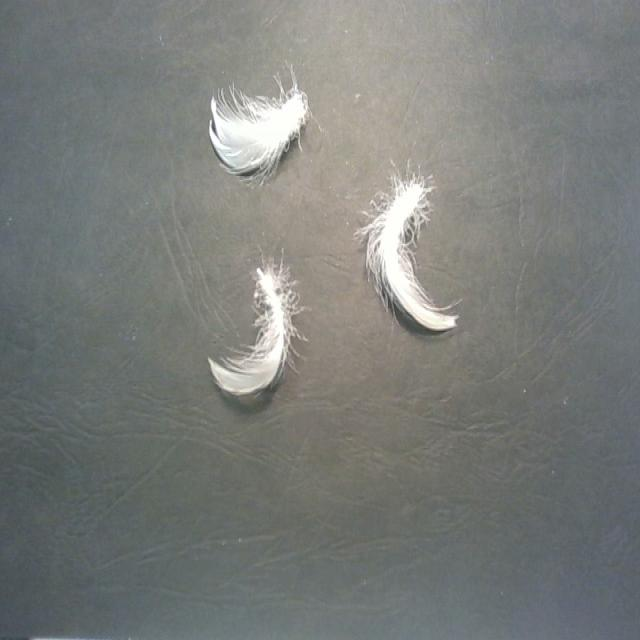feather: (360, 169, 457, 328), (208, 249, 307, 395), (207, 67, 314, 176)
